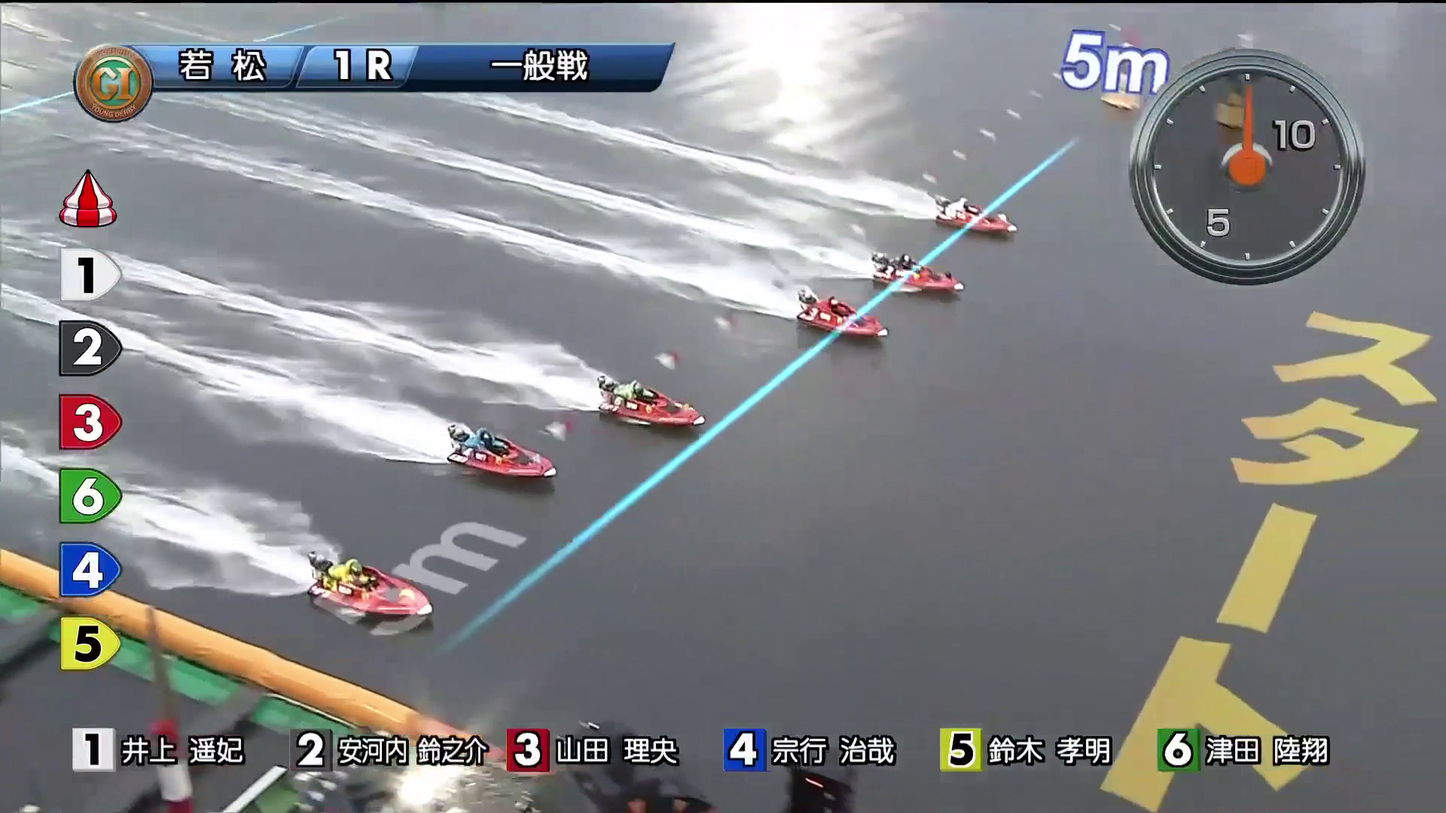１号艇: (888, 198, 962, 245)
２号艇: (879, 255, 940, 293)
３号艇: (807, 296, 862, 337)
４号艇: (629, 380, 693, 423)
５号艇: (495, 453, 564, 491)
６号艇: (404, 592, 469, 638)
